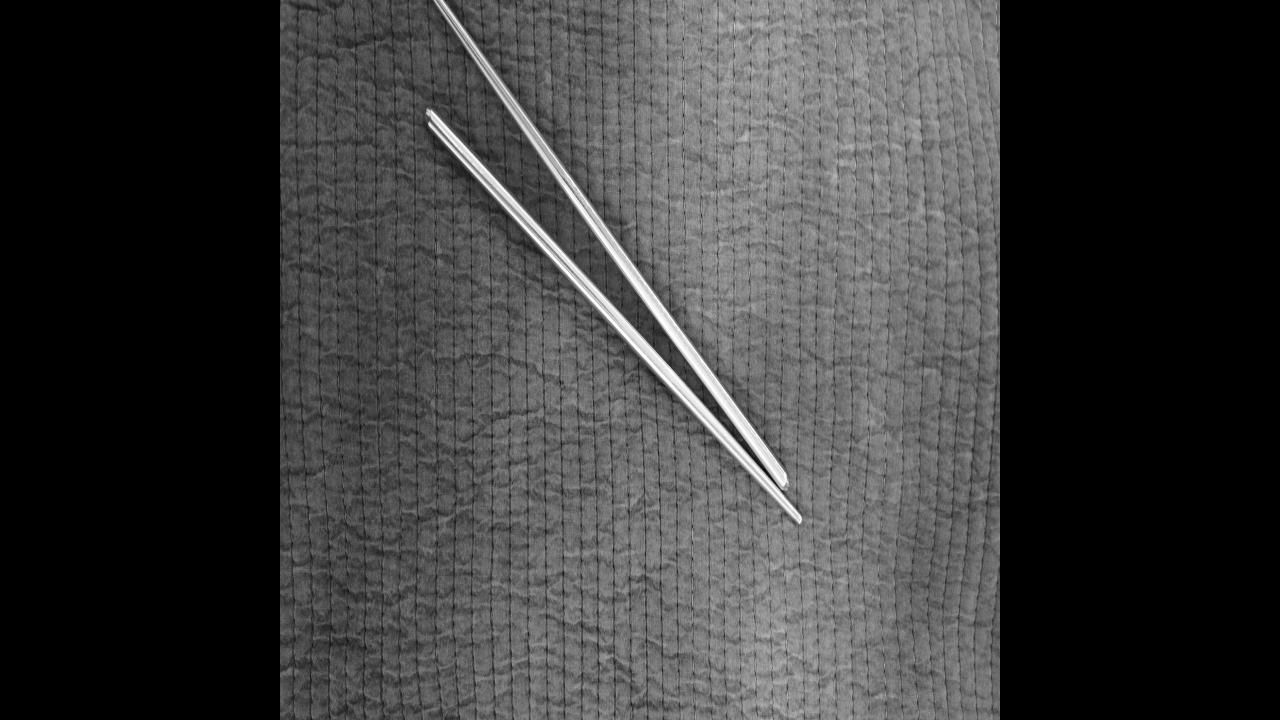chopstick: (414, 0, 805, 539)
